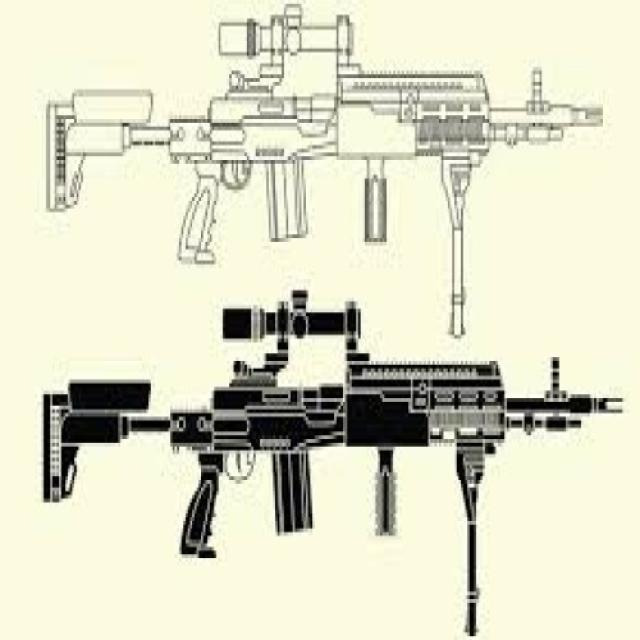Gun: (35, 283, 611, 586), (30, 0, 601, 270)
